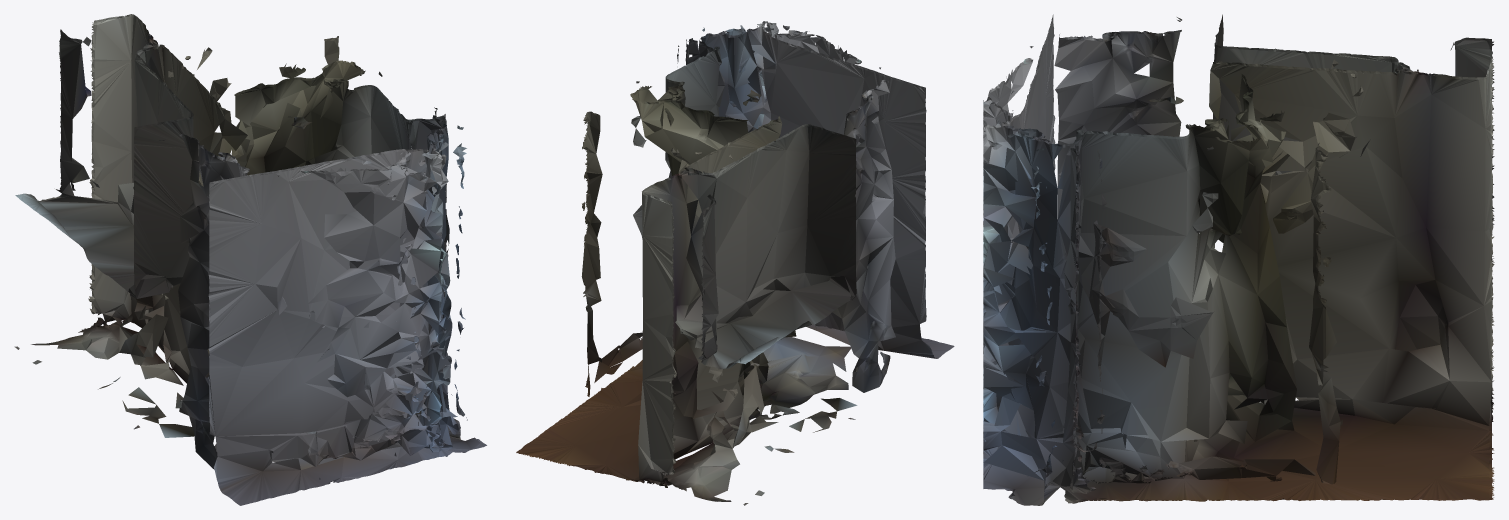
The model's file is coarse.glb.
The picture shows the model from 3 angles, left to right: view 1: azimuth 30°, elevation 25°; view 2: azimuth 150°, elevation 25°; view 3: azimuth 270°, elevation 25°; orthographic projection. The views are drawn at different scales.
Size of the model in its own units: 1.09 by 1.34 by 1.72.
